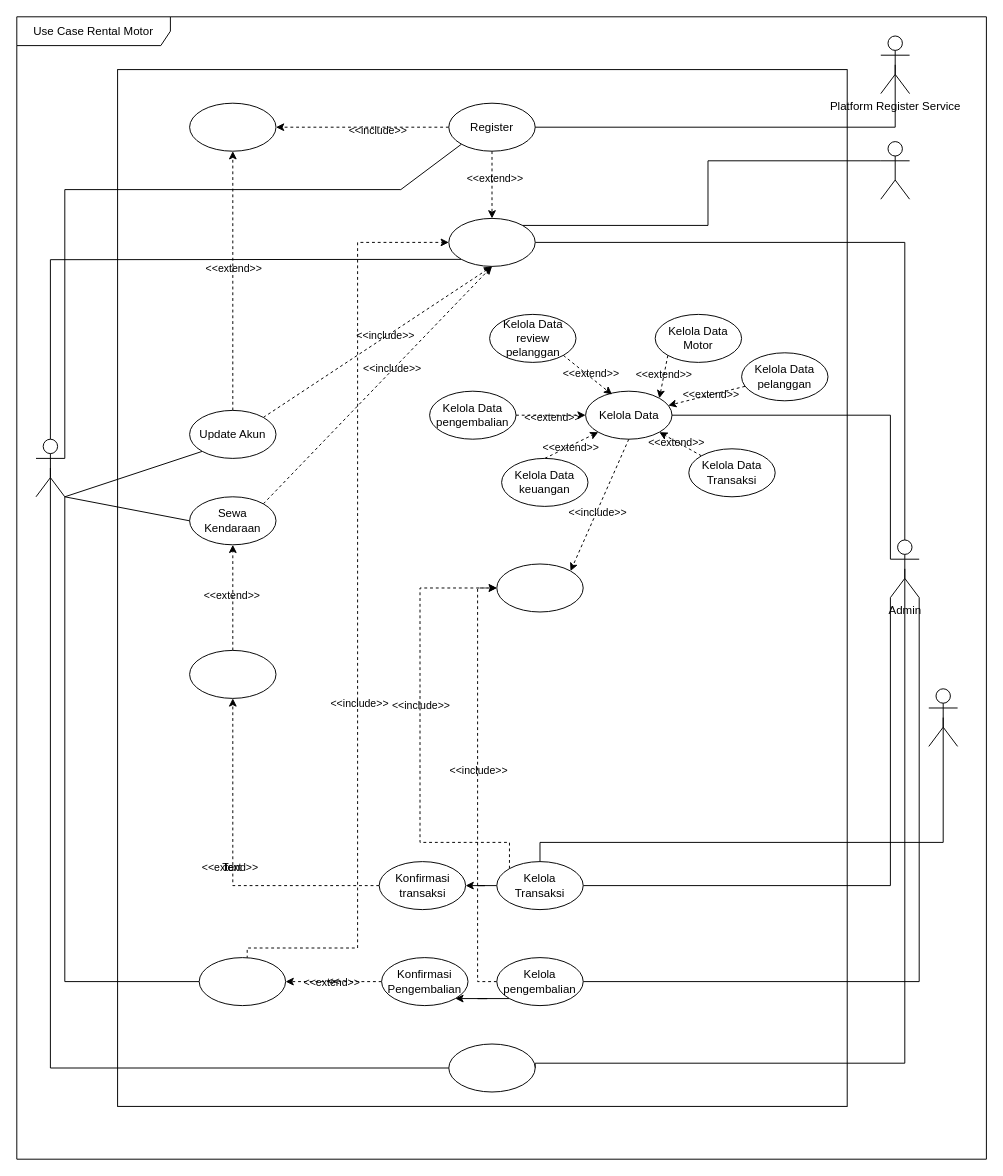
The diagram is 1003 pixels wide and 1176 high, and some of its shapes have lost their labels. The shapes that lost their labels are listed below. From the top down, each one's box as (x1, y1, x2, y2) in pixels, then its label:
(189, 102, 276, 151): Melihat data
(880, 141, 910, 199): Platform Login Service
(448, 217, 535, 266): Login
(35, 438, 65, 497): Pelanggan
(496, 563, 583, 612): Login Admin
(189, 649, 276, 698): Transaksi
(928, 688, 958, 746): Payment Service
(198, 957, 286, 1006): Pengembalian
(448, 1043, 535, 1092): Logout
